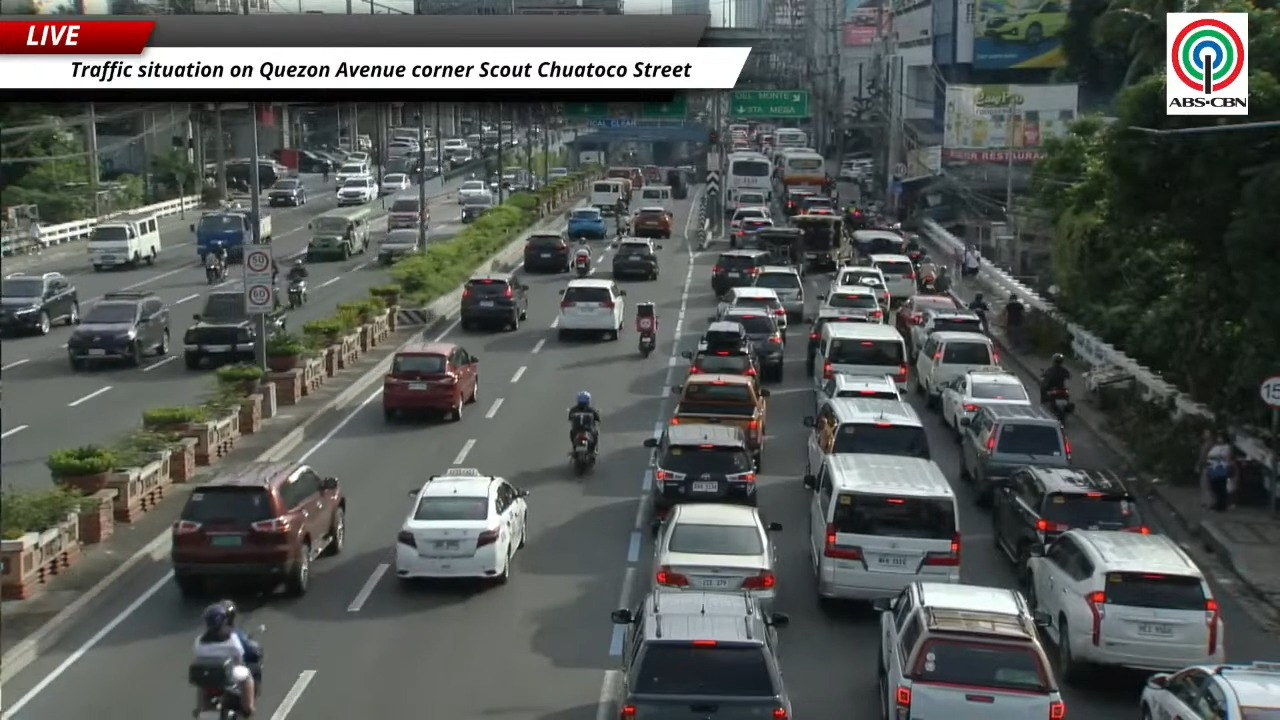bus: (725, 152, 772, 203)
car: (1028, 529, 1224, 683), (874, 582, 1067, 719), (803, 453, 961, 604), (170, 461, 345, 596), (611, 588, 791, 719), (992, 466, 1149, 578), (395, 468, 528, 582), (655, 503, 781, 611), (960, 405, 1070, 505), (644, 424, 756, 520), (804, 398, 930, 474), (67, 291, 169, 370), (1141, 661, 1279, 719), (381, 340, 478, 421), (184, 283, 258, 369), (915, 332, 999, 407), (940, 370, 1031, 431), (0, 272, 79, 334), (718, 308, 784, 381), (806, 308, 870, 376), (556, 278, 625, 339), (904, 308, 981, 361), (982, 0, 1068, 46), (894, 294, 957, 356), (460, 273, 527, 330), (815, 374, 900, 415), (717, 287, 787, 334), (754, 265, 804, 320), (711, 249, 768, 296), (830, 265, 890, 307), (819, 285, 885, 323), (682, 346, 759, 377), (869, 254, 916, 302), (611, 237, 661, 279), (523, 232, 571, 272), (378, 228, 423, 264), (698, 321, 750, 350), (852, 229, 904, 257), (387, 197, 429, 230), (730, 217, 774, 247), (631, 207, 673, 238), (336, 175, 377, 206), (566, 208, 607, 239), (729, 206, 771, 235), (267, 178, 307, 206), (460, 192, 495, 223), (727, 190, 767, 215), (335, 161, 368, 188), (783, 190, 814, 216), (457, 180, 489, 204), (379, 173, 410, 194), (800, 195, 833, 213), (447, 149, 476, 169), (548, 167, 570, 179)
motorcycle: (189, 646, 262, 719), (570, 430, 595, 475), (636, 302, 656, 357), (1044, 387, 1073, 422), (288, 279, 306, 308), (638, 332, 655, 357), (205, 263, 225, 284), (574, 254, 590, 277), (920, 275, 937, 294), (907, 250, 922, 270)
truck: (671, 373, 769, 471), (191, 209, 271, 262), (578, 150, 605, 165)
